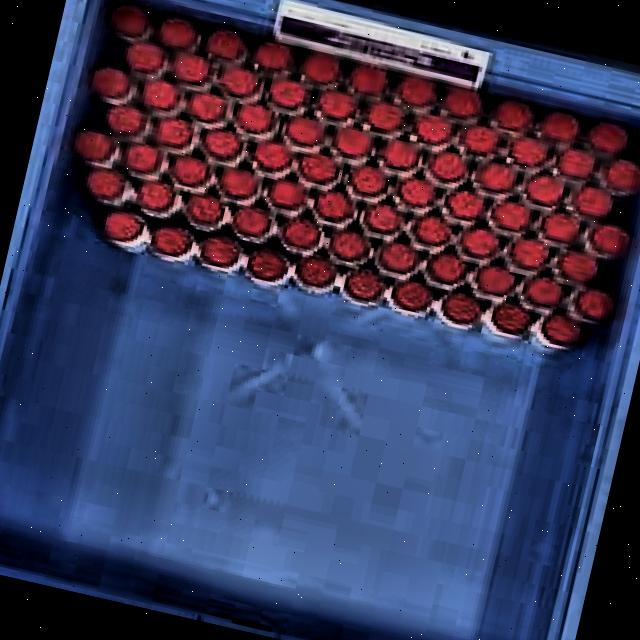vial: (535, 312, 584, 348), (180, 191, 225, 229), (202, 25, 247, 63), (387, 277, 434, 313), (98, 209, 146, 244), (488, 299, 531, 338), (279, 216, 325, 252), (311, 189, 358, 224), (574, 183, 617, 221), (342, 268, 386, 305), (120, 140, 165, 176), (121, 39, 167, 74), (552, 146, 599, 180), (168, 51, 212, 87), (156, 14, 200, 50), (395, 72, 439, 108), (585, 119, 630, 154), (296, 150, 342, 184), (214, 166, 260, 200), (539, 106, 581, 143), (265, 176, 307, 213), (573, 287, 616, 323), (200, 125, 243, 161), (375, 240, 420, 274), (473, 161, 519, 194), (589, 223, 631, 259), (331, 124, 373, 160), (152, 115, 195, 150), (149, 225, 194, 258), (198, 235, 240, 270), (232, 100, 274, 135), (71, 128, 114, 162), (314, 88, 357, 122), (108, 3, 151, 37), (394, 176, 438, 209), (79, 169, 124, 201), (411, 213, 452, 248), (443, 188, 484, 223), (360, 201, 401, 236), (267, 77, 308, 112), (427, 149, 468, 184), (139, 77, 180, 112), (168, 153, 210, 187), (460, 122, 502, 156), (504, 137, 550, 168), (439, 292, 482, 325), (508, 237, 551, 270), (379, 138, 422, 171), (250, 139, 293, 172), (89, 66, 133, 98), (523, 274, 564, 308), (459, 225, 500, 259), (103, 103, 144, 137), (426, 252, 468, 285), (327, 229, 369, 262), (245, 250, 288, 282), (348, 165, 391, 197), (186, 91, 230, 122), (538, 213, 579, 246), (489, 201, 530, 234), (523, 175, 565, 207), (294, 257, 337, 288), (475, 265, 518, 296), (233, 207, 273, 240), (136, 181, 177, 213), (216, 67, 261, 96), (348, 64, 390, 95), (603, 158, 640, 193), (365, 100, 404, 133), (253, 40, 292, 73), (284, 116, 324, 148), (444, 87, 483, 119), (560, 252, 600, 283), (416, 112, 454, 144), (302, 55, 341, 86), (493, 100, 532, 130)
